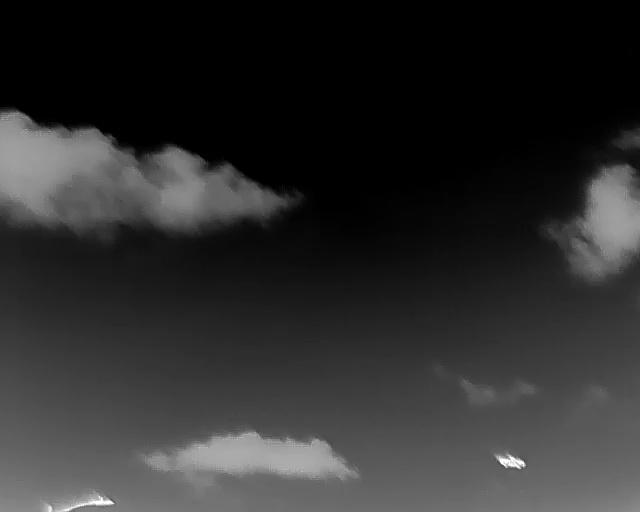fpv-drone: (494, 452, 526, 469)
